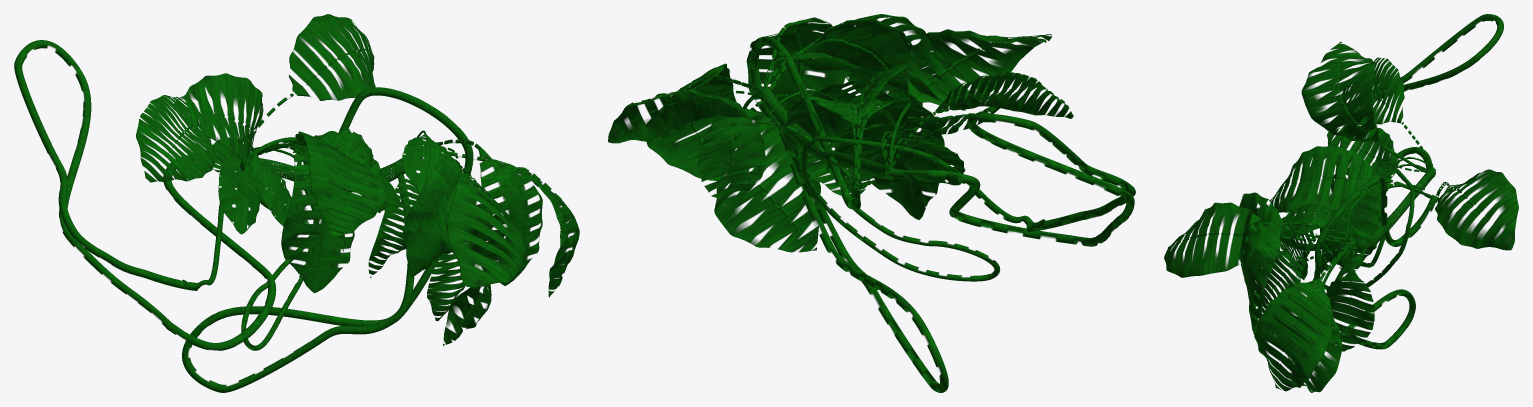
The model's file is dmtreeleaves5.glb.
The picture shows the model from 3 angles, left to right: view 1: azimuth 30°, elevation 25°; view 2: azimuth 150°, elevation 25°; view 3: azimuth 270°, elevation 25°; orthographic projection. The views are drawn at different scales.
Parts seen in each view (by area): view 1: jump_rope_246.043, jump_rope_246.045, leaf_005_mesh.009, leaf_005_mesh.008, leaf_004_mesh.008, leaf_010_mesh.008, leaf_003_mesh.009, leaf_001_mesh.008, leaf_009_mesh.009, leaf_010_mesh.009, jump_rope_246.044, leaf_004_mesh.009 (+9 smaller); view 2: leaf_003_mesh.010, jump_rope_246.045, jump_rope_246.043, leaf_003_mesh.009, leaf_009_mesh.009, leaf_005_mesh.008, leaf_008_mesh.009, leaf_004_mesh.009, jump_rope_246.044, leaf_001_mesh.008, leaf_010_mesh.009, leaf_010_mesh.008 (+11 smaller); view 3: leaf_004_mesh.009, leaf_003_mesh.009, leaf_005_mesh.008, leaf_005_mesh.009, leaf_004_mesh.008, jump_rope_246.045, leaf_010_mesh.009, leaf_009_mesh.008, leaf_008_mesh.009, jump_rope_246.043, leaf_001_mesh.008, leaf_003_mesh.010 (+9 smaller).
Part boxes in pixels (x1,y1,x2,y2): jump_rope_246.043: (14, 40, 276, 350); jump_rope_246.045: (182, 87, 473, 392); leaf_005_mesh.009: (447, 164, 526, 287); leaf_005_mesh.008: (244, 14, 375, 148); leaf_004_mesh.008: (257, 131, 387, 237); leaf_010_mesh.008: (259, 144, 354, 293); leaf_003_mesh.009: (171, 73, 263, 171); leaf_001_mesh.008: (136, 95, 217, 182); leaf_009_mesh.009: (403, 156, 477, 277); leaf_010_mesh.009: (424, 139, 542, 285); jump_rope_246.044: (182, 137, 319, 350); leaf_004_mesh.009: (422, 149, 579, 297); leaf_003_mesh.010: (714, 94, 820, 252); jump_rope_246.045: (750, 36, 948, 392); jump_rope_246.043: (888, 113, 1135, 246); leaf_003_mesh.009: (888, 29, 1051, 177); leaf_009_mesh.009: (758, 18, 922, 118); leaf_005_mesh.008: (608, 89, 860, 187); leaf_008_mesh.009: (697, 90, 766, 205); leaf_004_mesh.009: (646, 63, 762, 180); jump_rope_246.044: (801, 136, 1045, 281); leaf_001_mesh.008: (889, 72, 1073, 170); leaf_010_mesh.009: (746, 17, 845, 113); leaf_010_mesh.008: (845, 98, 944, 219); leaf_004_mesh.009: (1254, 238, 1353, 391); leaf_003_mesh.009: (1301, 41, 1426, 172); leaf_005_mesh.008: (1435, 169, 1518, 250); leaf_005_mesh.009: (1164, 202, 1351, 277); leaf_004_mesh.008: (1270, 145, 1439, 212); jump_rope_246.045: (1307, 176, 1437, 349); leaf_010_mesh.009: (1240, 220, 1351, 334); leaf_009_mesh.008: (1320, 183, 1437, 272); leaf_008_mesh.009: (1326, 241, 1374, 351); jump_rope_246.043: (1283, 14, 1503, 250); leaf_001_mesh.008: (1341, 57, 1434, 168); leaf_003_mesh.010: (1272, 240, 1354, 392).
Size of the model in its own units: 1.32 by 0.8725 by 1.01.
Materials: 1 (1 with a texture image).
